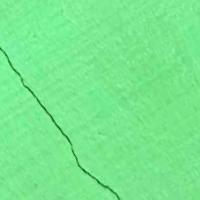crack: (0, 44, 123, 199)
